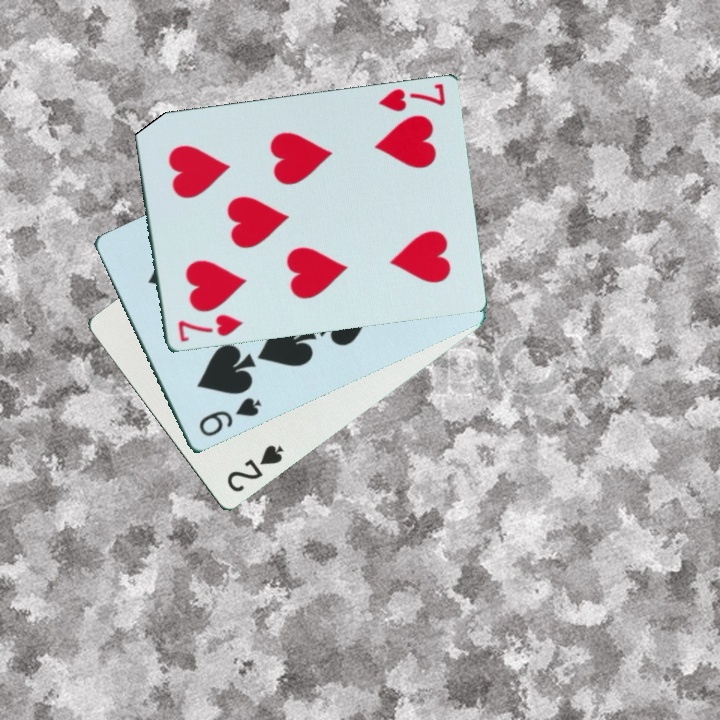2s: (223, 441, 287, 496)
7h: (374, 80, 448, 115), (174, 311, 246, 346)
9s: (195, 394, 264, 440)
